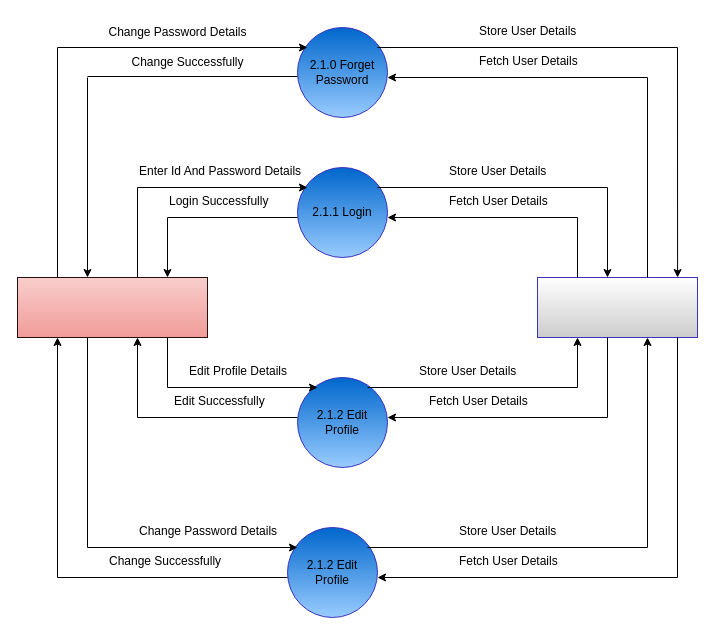
The diagram is 715 pixels wide and 635 high, and some of its shapes have lost their labels. The shapes that lost their labels are listed below. From the top down, each one's centre as x and y in pixels, then its label:
At point (112, 307): "Admin".
At point (617, 307): "tbl_user".
